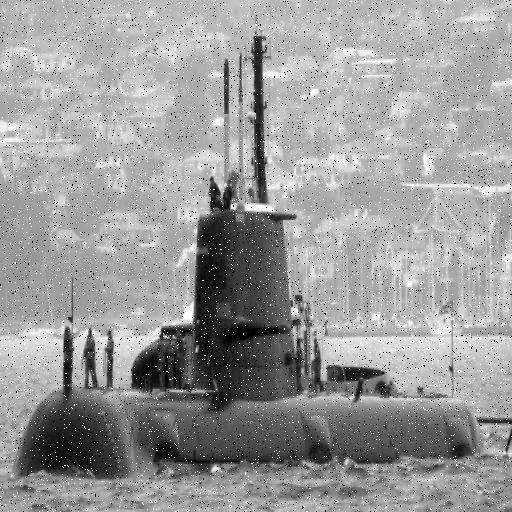submarine: (10, 35, 512, 488)
